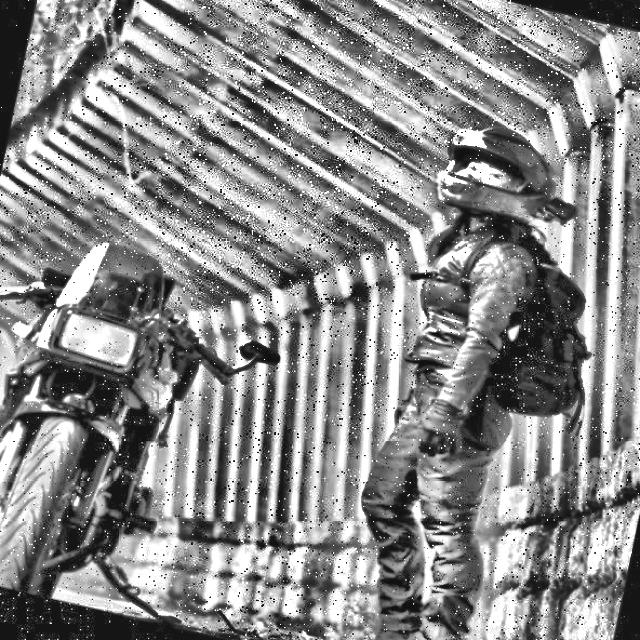Helmet: (423, 111, 569, 236)
